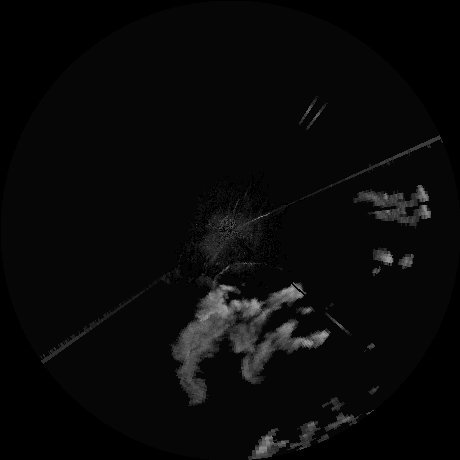frontgust: (210, 260, 259, 282)
